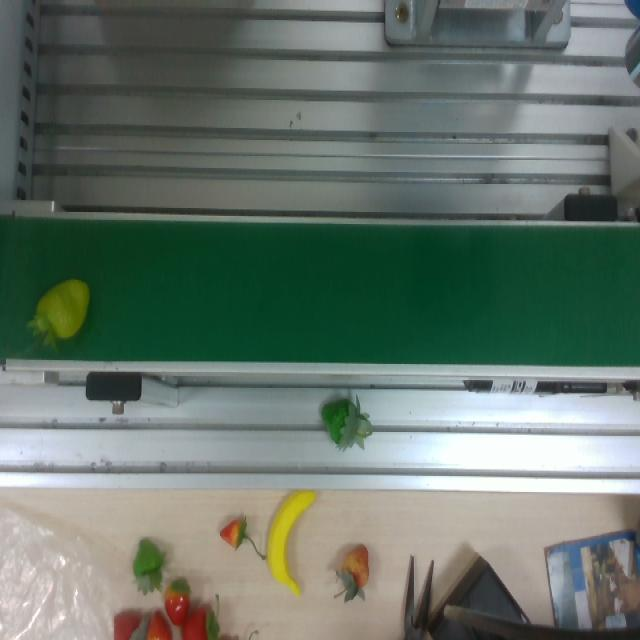Small Unripe Strawberry: (29, 266, 105, 350)
conveyor: (2, 206, 640, 374)
